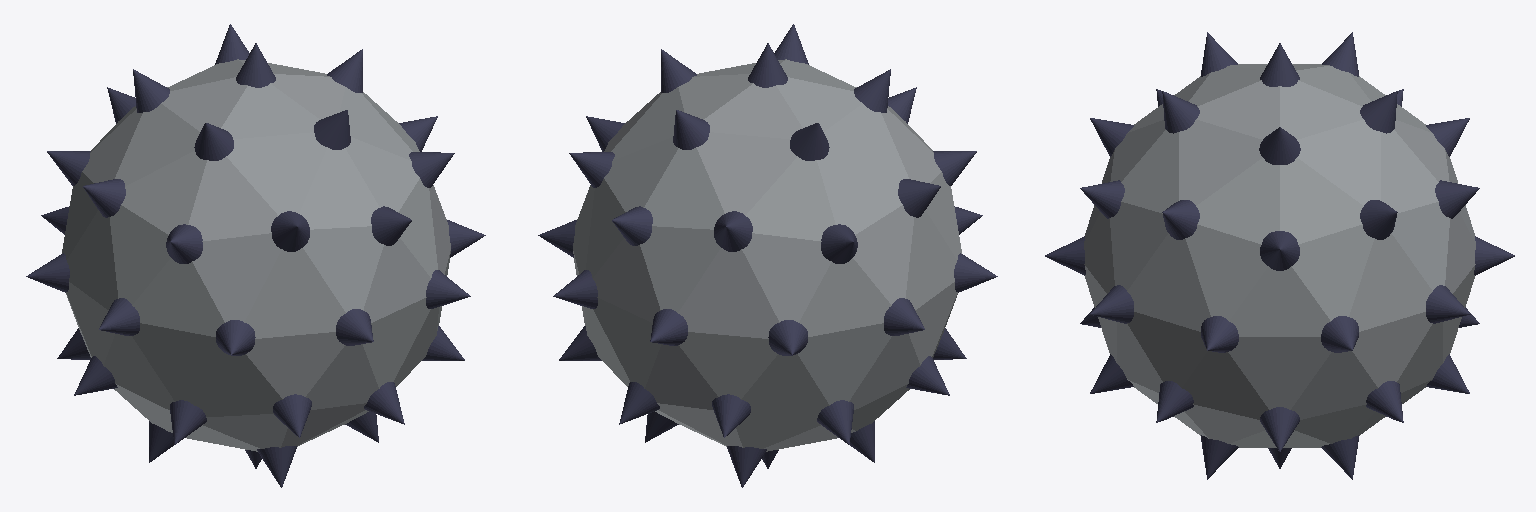
The model's file is Bomb.obj.
3 renders of one model, left to right at view 1: azimuth 30°, elevation 25°; view 2: azimuth 150°, elevation 25°; view 3: azimuth 270°, elevation 25°, orthographic.
Visible parts, largest first — view 1: Mesh42 Sphere_001_1 skpB3_1 Model, Mesh33 Cone_33_1 skpB3_1 Model, Mesh8 Cone_7_1 skpB3_1 Model, Mesh26 Cone_26_1 skpB3_1 Model, Mesh25 Cone_25_1 skpB3_1 Model, Mesh39 Cone_39_1 skpB3_1 Model, Mesh38 Cone_38_1 skpB3_1 Model, Mesh27 Cone_27_1 skpB3_1 Model, Mesh7 Cone_6_1 skpB3_1 Model, Mesh34 Cone_34_1 skpB3_1 Model, Mesh3 Cone_2_1 skpB3_1 Model, Mesh19 Cone_18_1 skpB3_1 Model (+18 smaller); view 2: Mesh42 Sphere_001_1 skpB3_1 Model, Mesh35 Cone_35_1 skpB3_1 Model, Mesh9 Cone_8_1 skpB3_1 Model, Mesh29 Cone_29_1 skpB3_1 Model, Mesh30 Cone_30_1 skpB3_1 Model, Mesh40 Cone_40_1 skpB3_1 Model, Mesh41 Cone_41_1 skpB3_1 Model, Mesh28 Cone_28_1 skpB3_1 Model, Mesh10 Cone_9_1 skpB3_1 Model, Mesh34 Cone_34_1 skpB3_1 Model, Mesh5 Cone_4_1 skpB3_1 Model, Mesh21 Cone_20_1 skpB3_1 Model (+18 smaller); view 3: Mesh42 Sphere_001_1 skpB3_1 Model, Mesh11 Cone_10_1 skpB3_1 Model, Mesh22 Cone_22_1 skpB3_1 Model, Mesh23 Cone_23_1 skpB3_1 Model, Mesh37 Cone_37_1 skpB3_1 Model, Mesh32 Cone_32_1 skpB3_1 Model, Mesh36 Cone_36_1 skpB3_1 Model, Mesh17 Cone_16_1 skpB3_1 Model, Mesh24 Cone_24_1 skpB3_1 Model, Mesh31 Cone_31_1 skpB3_1 Model, Mesh38 Cone_38_1 skpB3_1 Model, Mesh41 Cone_41_1 skpB3_1 Model (+15 smaller).
Boxes of the visible parts, <box> form: Mesh42 Sphere_001_1 skpB3_1 Model: <box>62,59,450,451</box>; Mesh33 Cone_33_1 skpB3_1 Model: <box>271,211,309,251</box>; Mesh8 Cone_7_1 skpB3_1 Model: <box>166,224,202,263</box>; Mesh26 Cone_26_1 skpB3_1 Model: <box>216,320,255,355</box>; Mesh25 Cone_25_1 skpB3_1 Model: <box>336,309,373,345</box>; Mesh39 Cone_39_1 skpB3_1 Model: <box>194,123,233,160</box>; Mesh38 Cone_38_1 skpB3_1 Model: <box>314,110,350,149</box>; Mesh27 Cone_27_1 skpB3_1 Model: <box>99,298,139,335</box>; Mesh7 Cone_6_1 skpB3_1 Model: <box>371,206,411,245</box>; Mesh34 Cone_34_1 skpB3_1 Model: <box>83,179,125,217</box>; Mesh3 Cone_2_1 skpB3_1 Model: <box>273,394,311,437</box>; Mesh19 Cone_18_1 skpB3_1 Model: <box>170,400,206,444</box>; Mesh42 Sphere_001_1 skpB3_1 Model: <box>573,59,961,451</box>; Mesh35 Cone_35_1 skpB3_1 Model: <box>714,211,752,251</box>; Mesh9 Cone_8_1 skpB3_1 Model: <box>821,224,857,263</box>; Mesh29 Cone_29_1 skpB3_1 Model: <box>768,320,807,355</box>; Mesh30 Cone_30_1 skpB3_1 Model: <box>650,309,687,345</box>; Mesh40 Cone_40_1 skpB3_1 Model: <box>790,123,829,160</box>; Mesh41 Cone_41_1 skpB3_1 Model: <box>673,110,709,149</box>; Mesh28 Cone_28_1 skpB3_1 Model: <box>884,298,924,335</box>; Mesh10 Cone_9_1 skpB3_1 Model: <box>612,206,652,245</box>; Mesh34 Cone_34_1 skpB3_1 Model: <box>898,179,940,217</box>; Mesh5 Cone_4_1 skpB3_1 Model: <box>712,394,750,437</box>; Mesh21 Cone_20_1 skpB3_1 Model: <box>817,400,853,444</box>; Mesh42 Sphere_001_1 skpB3_1 Model: <box>1084,64,1475,447</box>; Mesh11 Cone_10_1 skpB3_1 Model: <box>1260,231,1299,270</box>; Mesh22 Cone_22_1 skpB3_1 Model: <box>1321,316,1358,352</box>; Mesh23 Cone_23_1 skpB3_1 Model: <box>1201,316,1238,352</box>; Mesh37 Cone_37_1 skpB3_1 Model: <box>1259,127,1300,164</box>; Mesh32 Cone_32_1 skpB3_1 Model: <box>1162,200,1199,239</box>; Mesh36 Cone_36_1 skpB3_1 Model: <box>1360,200,1397,239</box>; Mesh17 Cone_16_1 skpB3_1 Model: <box>1260,407,1299,451</box>; Mesh24 Cone_24_1 skpB3_1 Model: <box>1089,285,1133,323</box>; Mesh31 Cone_31_1 skpB3_1 Model: <box>1426,285,1470,323</box>; Mesh38 Cone_38_1 skpB3_1 Model: <box>1162,91,1199,133</box>; Mesh41 Cone_41_1 skpB3_1 Model: <box>1360,91,1397,133</box>.
Bounding box in the file's own units: 2.82 × 2.97 × 2.97.